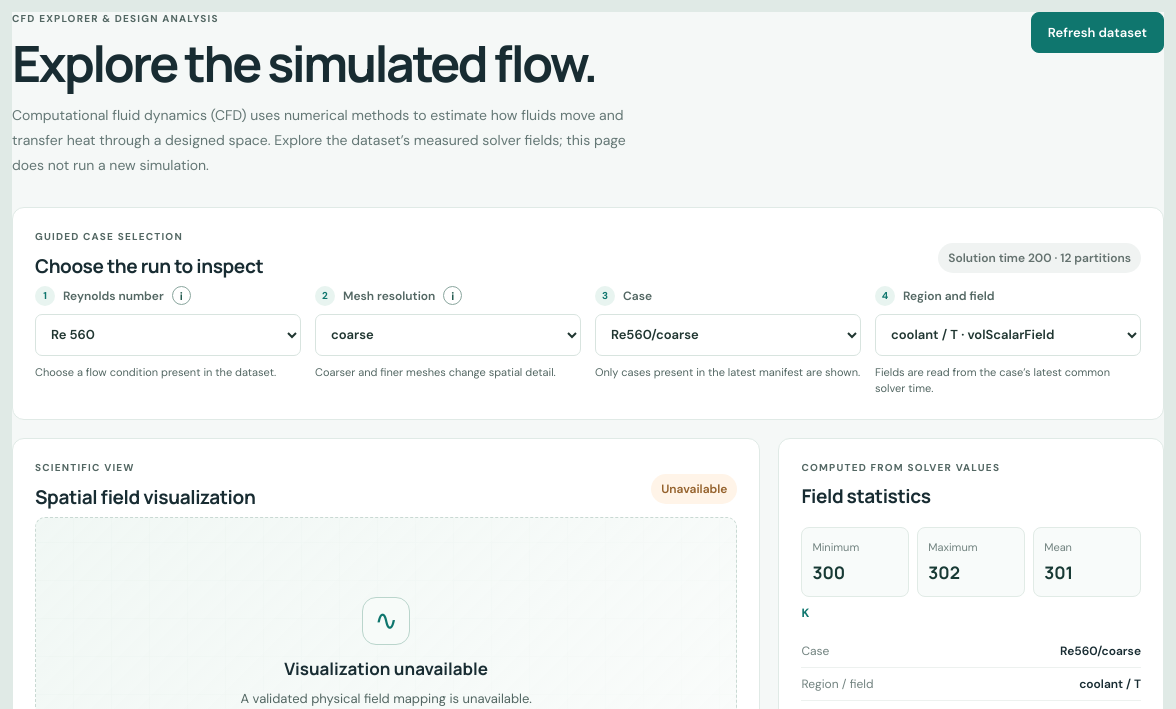
Test: CfdExplorer › populates selectors from scanned cases and changes case with Reynolds selection
This screenshot has width=1176, height=709.
Expected: the dropdown labelled "Mesh resolution" shows "coarse", [315,314,581,356]
Expected: the dropdown named "CFD field" shows "coolant / T · volScalarField", [875,314,1141,356]
Select "Re 11240" in the dropdown labelled "Reynolds number". click: (168, 335)
box: [35,314,301,356]
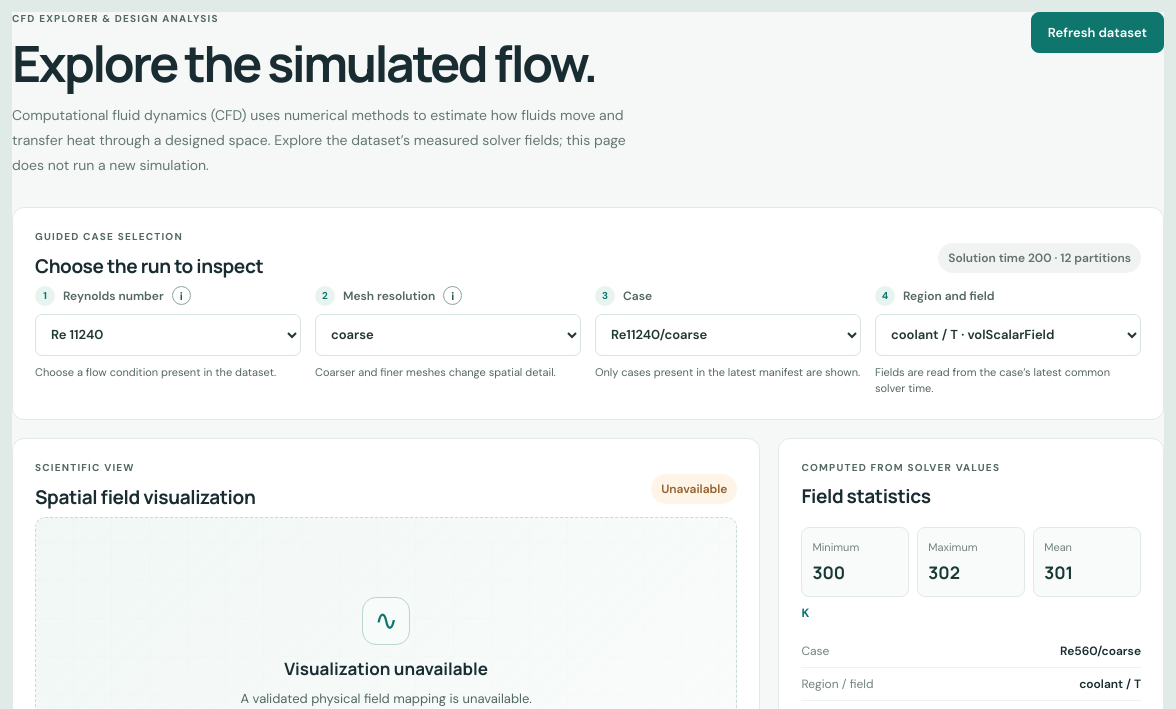
Now the dropdown named "CFD case" shows "Re11240/coarse", box [595,314,861,356]
